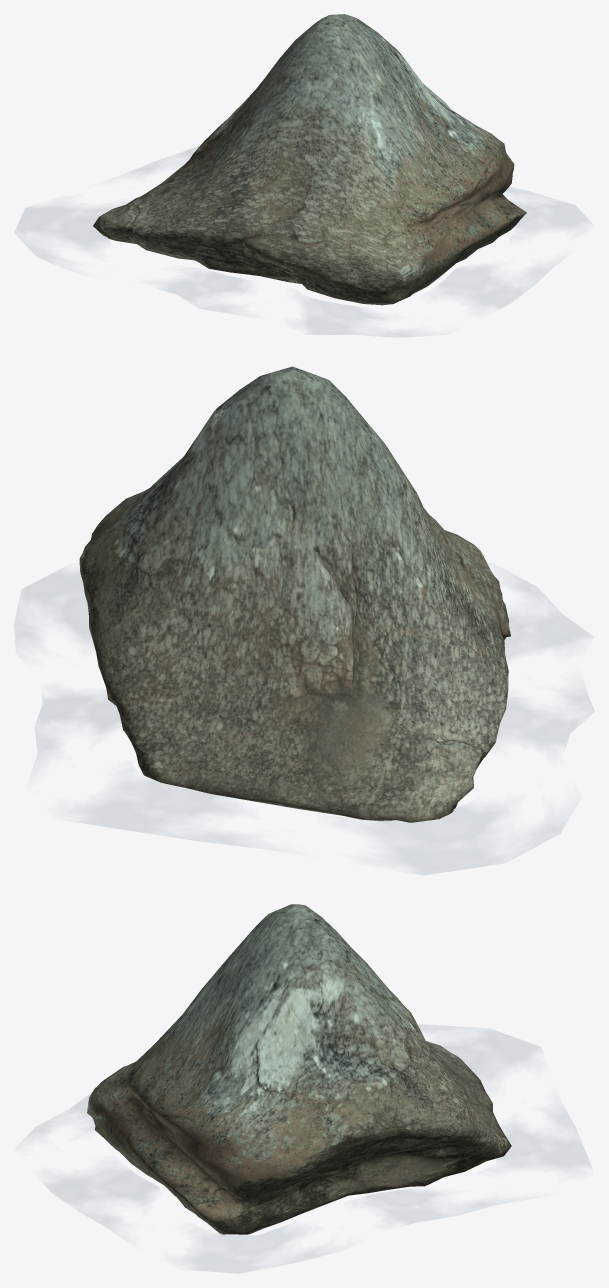
The model's file is mm6_deco_surfrock_b.glb.
3 renders of one model, top to bottom at view 1: azimuth 30°, elevation 25°; view 2: azimuth 150°, elevation 25°; view 3: azimuth 270°, elevation 25°, orthographic. The views are drawn at different scales.
Visible parts, largest first — view 1: SurfRockB; view 2: SurfRockB; view 3: SurfRockB.
Part boxes in pixels (<box>): SurfRockB: <box>14,14,594,337</box>; SurfRockB: <box>14,366,594,875</box>; SurfRockB: <box>14,904,593,1273</box>.
Size of the model in its own units: 3.47 by 1.64 by 3.42.
2 materials, 2 textured.
